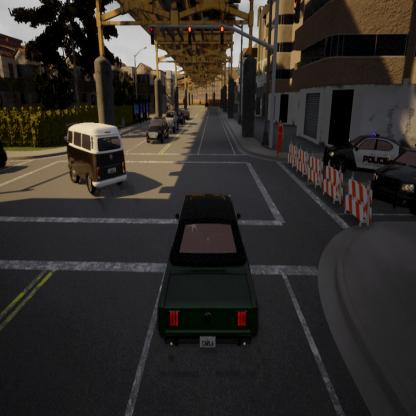Cars: (150, 178, 276, 367), (58, 110, 134, 209), (316, 110, 416, 180), (142, 112, 166, 158), (160, 103, 180, 139), (180, 95, 190, 129)
